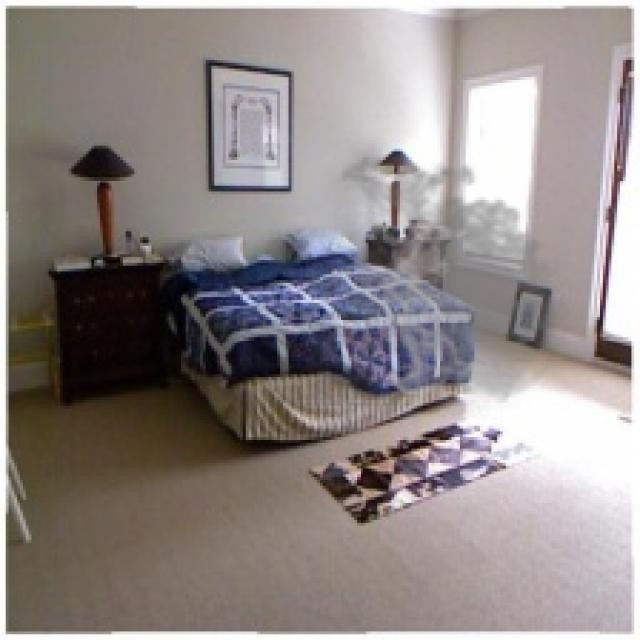Smoke: (306, 148, 583, 406)
